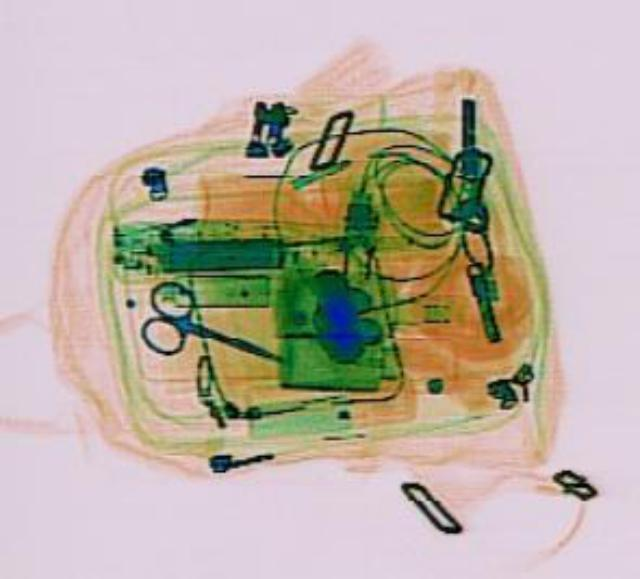Scissors: (120, 273, 298, 392)
